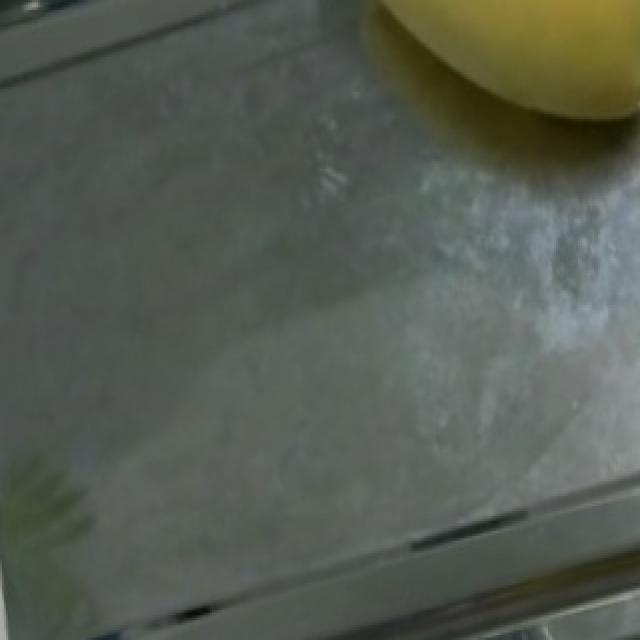fruit: (318, 0, 638, 159)
